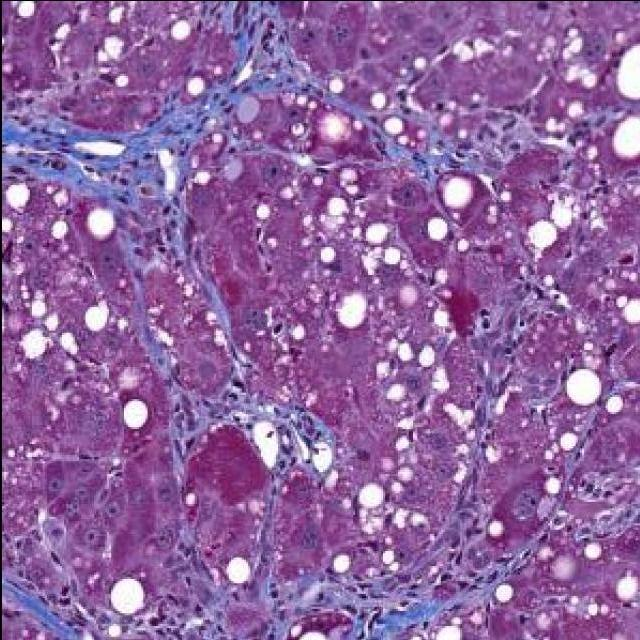fibrosis: (5, 0, 535, 331), (141, 320, 335, 479), (2, 571, 424, 640)
